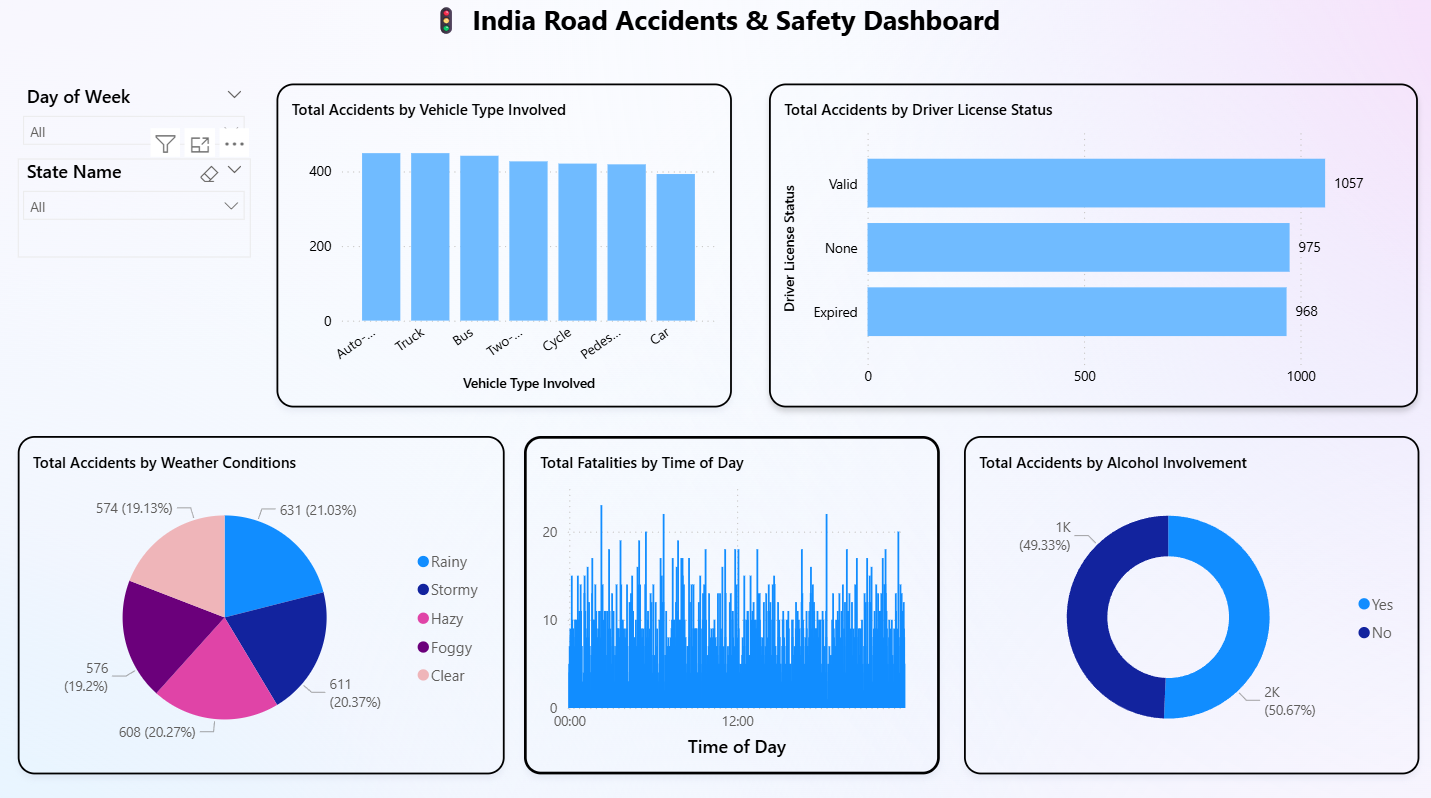

Layout of this report page (visuals, bound fields, positions):
{"tool":"powerbi","page":{"name":"Cause Analysis","canvas":[1280,720],"ordinal":2},"visuals":[{"type":"clusteredColumnChart","fields":{"Category":["accident_prediction_india.Time of Day"],"Y":["accident_prediction_india.Total Fatalities"]},"box":[470.9,390.7,369.8,301.2],"z":0},{"type":"pieChart","fields":{"Category":["accident_prediction_india.Weather Conditions"],"Y":["accident_prediction_india.Total Accidents"]},"box":[20.9,390.7,432.6,301.2],"z":1000},{"type":"donutChart","fields":{"Category":["accident_prediction_india.Alcohol Involvement"],"Y":["accident_prediction_india.Total Accidents"]},"box":[861.7,391,404.8,300.7],"z":2000},{"type":"barChart","fields":{"Category":["accident_prediction_india.Driver License Status"],"Y":["accident_prediction_india.Total Accidents"]},"box":[688.4,77.9,576.7,288.4],"z":3000},{"type":"columnChart","fields":{"Category":["accident_prediction_india.Vehicle Type Involved"],"Y":["accident_prediction_india.Total Accidents"]},"box":[251.2,77.9,404.7,288.4],"z":4000},{"type":"textbox","box":[0,0,1280,55],"z":5000},{"type":"slicer","fields":{"Values":["accident_prediction_india.Day of Week"]},"box":[20.9,78.2,206.4,66.4],"z":6000},{"type":"slicer","fields":{"Values":["accident_prediction_india.State Name"]},"box":[20.9,144.5,206.4,87.3],"z":7000}]}

Visuals, with their boxes in screenshot pixels (x1, y1, x2, y2), scaled from the page's 1280x720 canvas onto the 1431x798 screenshot:
clusteredColumnChart - accident_prediction_india.Time of Day x accident_prediction_india.Total Fatalities: <bbox>526, 433, 940, 767</bbox>
pieChart - accident_prediction_india.Weather Conditions x accident_prediction_india.Total Accidents: <bbox>23, 433, 507, 767</bbox>
donutChart - accident_prediction_india.Alcohol Involvement x accident_prediction_india.Total Accidents: <bbox>963, 433, 1416, 767</bbox>
barChart - accident_prediction_india.Driver License Status x accident_prediction_india.Total Accidents: <bbox>770, 86, 1414, 406</bbox>
columnChart - accident_prediction_india.Vehicle Type Involved x accident_prediction_india.Total Accidents: <bbox>281, 86, 733, 406</bbox>
textbox: <bbox>0, 0, 1430, 61</bbox>
slicer - accident_prediction_india.Day of Week: <bbox>23, 87, 254, 160</bbox>
slicer - accident_prediction_india.State Name: <bbox>23, 160, 254, 257</bbox>
